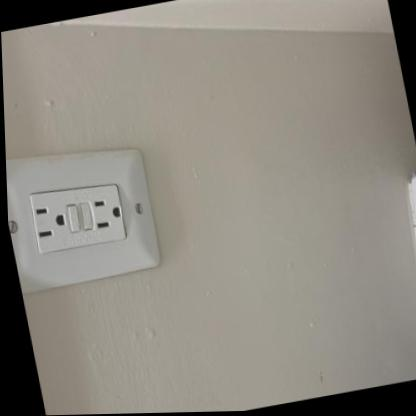OUTLET: (5, 140, 164, 293)
